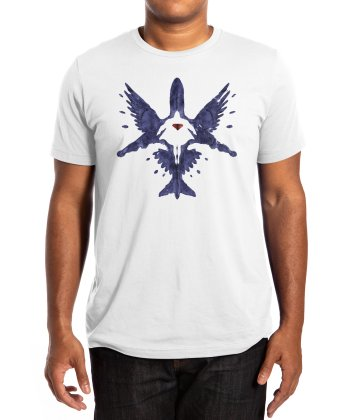design: (112, 74, 239, 202)
